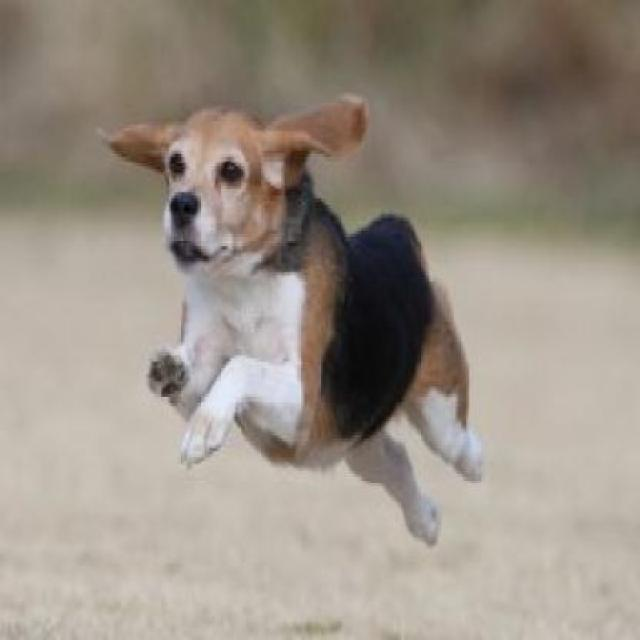Dog: (100, 92, 488, 556)
